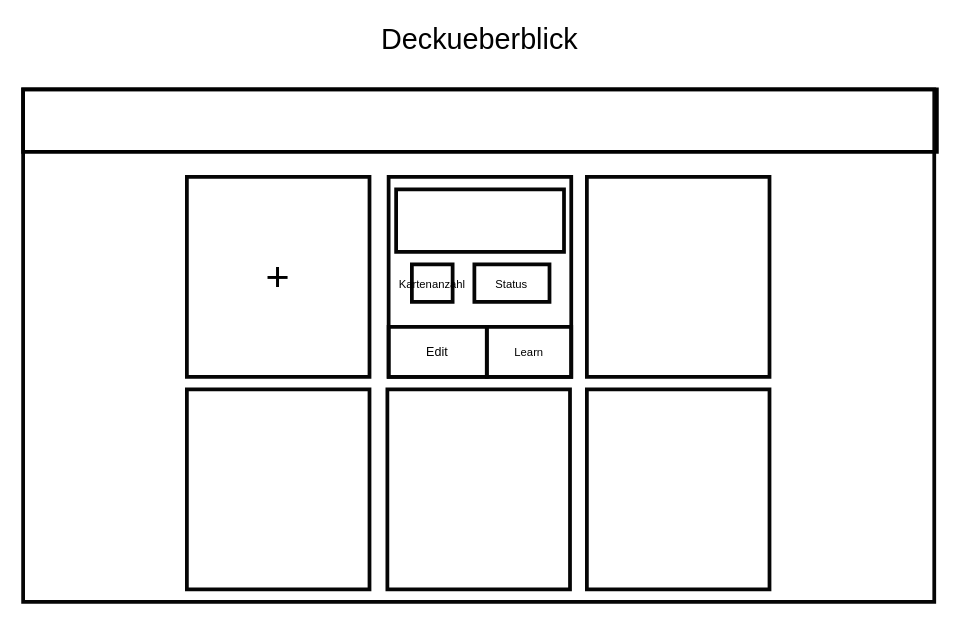
This 960x625 diagram has some shape labels left out. Here are the shapes that lost their labels. From the top down, the centre of each, then its label:
point 479,120: Header
point 479,220: Deckname
